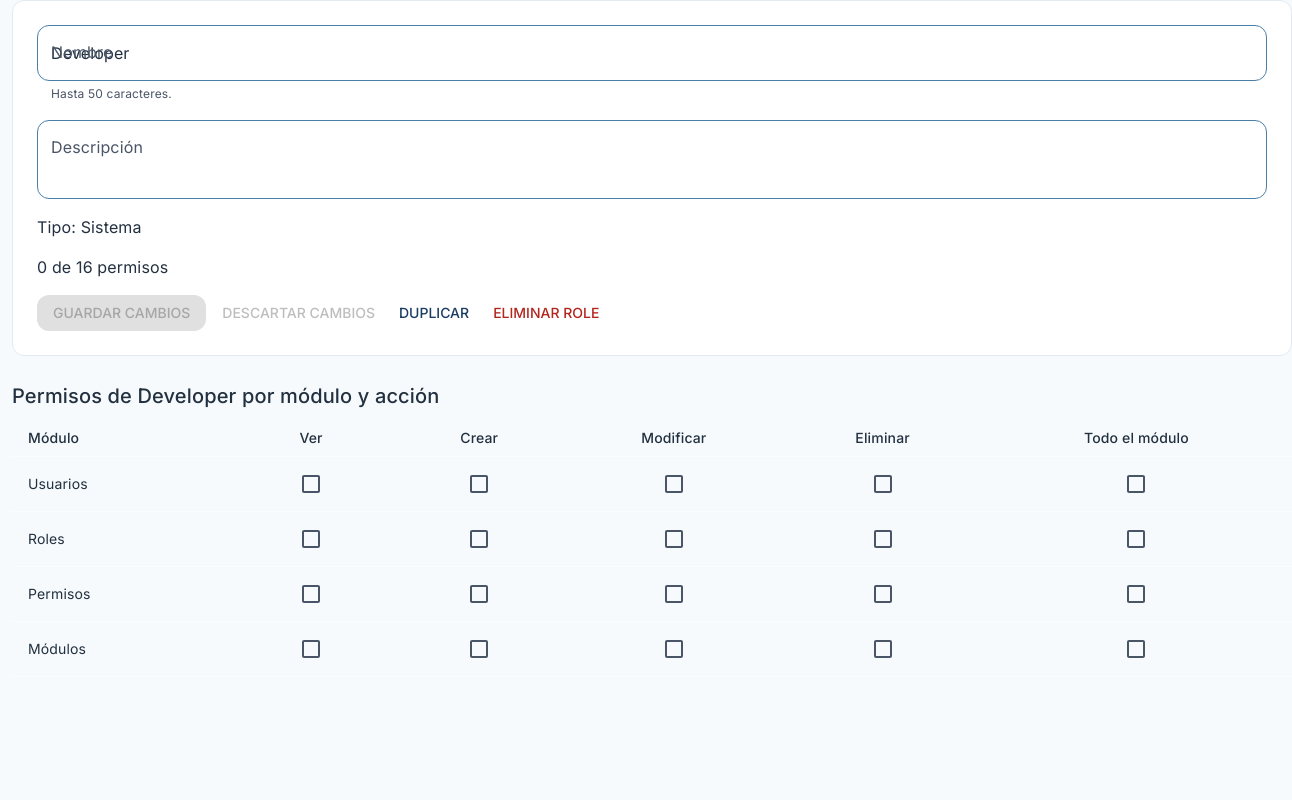
it: RoleDetailPanel › rejects an empty name and saves nothing (US1-8)
Clear the field labelled "Nombre": (652, 53) x1=37 y1=25 x2=1267 y2=81
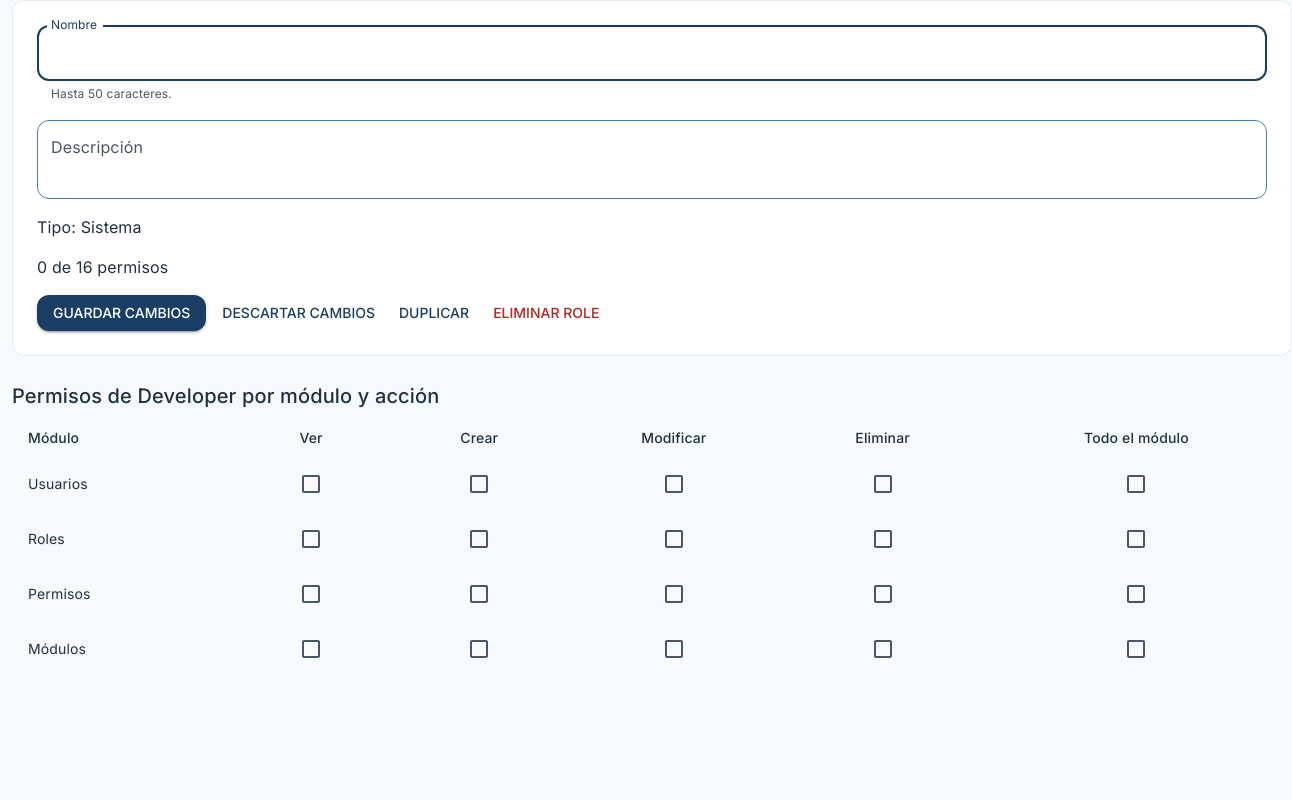
Click the button "Guardar cambios": (122, 313) x1=37 y1=295 x2=206 y2=331
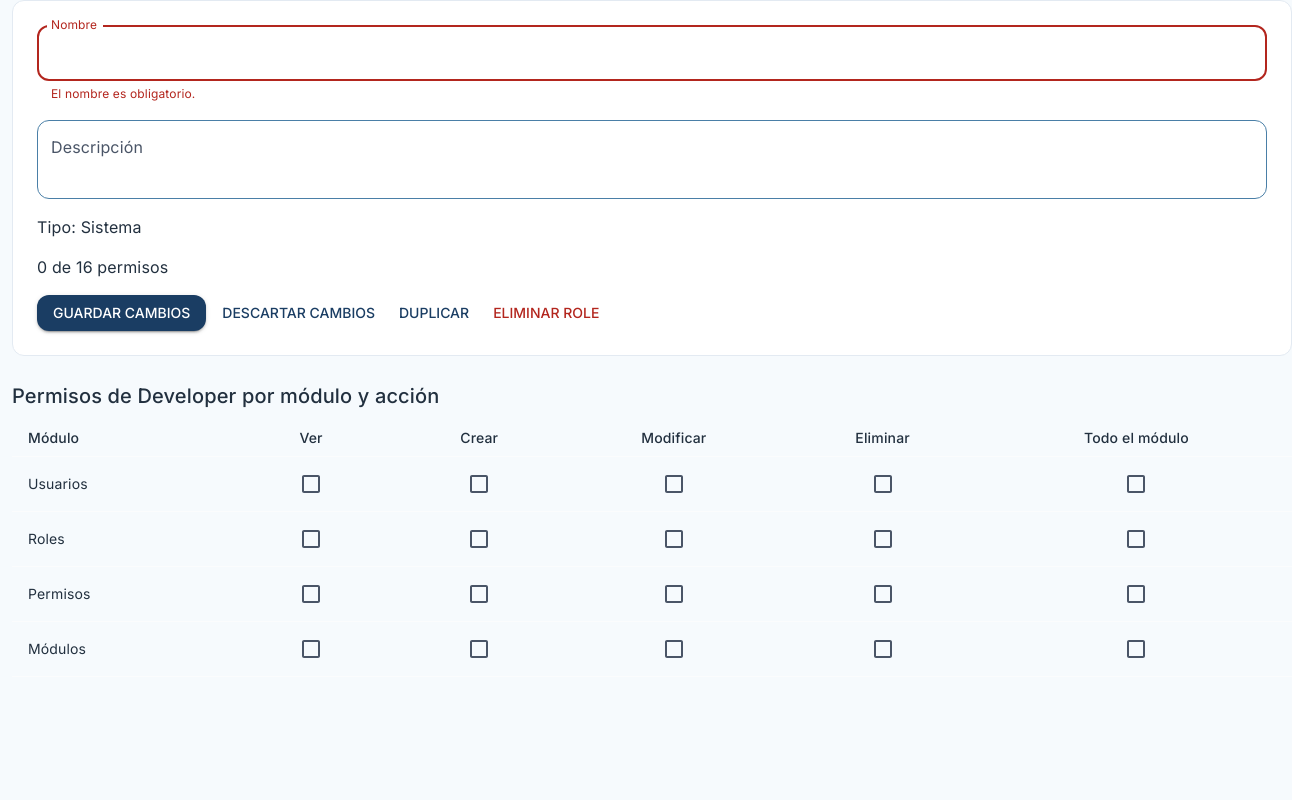
Now the text "El nombre es obligatorio." is shown, box x1=51 y1=86 x2=195 y2=101
